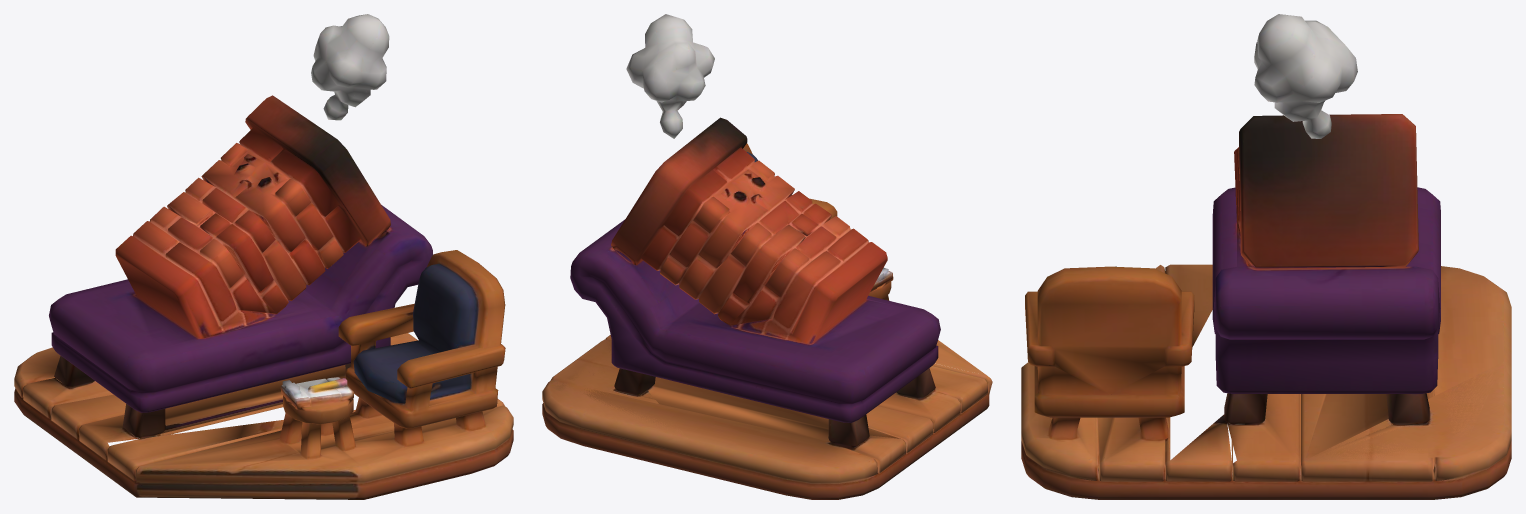
The model's file is chimneytherapy.glb.
The picture shows the model from 3 angles, left to right: view 1: azimuth 30°, elevation 25°; view 2: azimuth 150°, elevation 25°; view 3: azimuth 270°, elevation 25°; orthographic projection. The views are drawn at different scales.
Visible parts, largest first — view 1: tripo_node_d1d1bac0-e865-4326-871b-ba05d88855e7; view 2: tripo_node_d1d1bac0-e865-4326-871b-ba05d88855e7; view 3: tripo_node_d1d1bac0-e865-4326-871b-ba05d88855e7.
Part boxes in pixels (x1=…): tripo_node_d1d1bac0-e865-4326-871b-ba05d88855e7: x1=14, y1=14, x2=513, y2=499; tripo_node_d1d1bac0-e865-4326-871b-ba05d88855e7: x1=542, y1=14, x2=992, y2=499; tripo_node_d1d1bac0-e865-4326-871b-ba05d88855e7: x1=1021, y1=14, x2=1511, y2=499.
Bounding box in the file's own units: 0.9391 × 0.9774 × 0.9698.
1 material, 1 textured.
